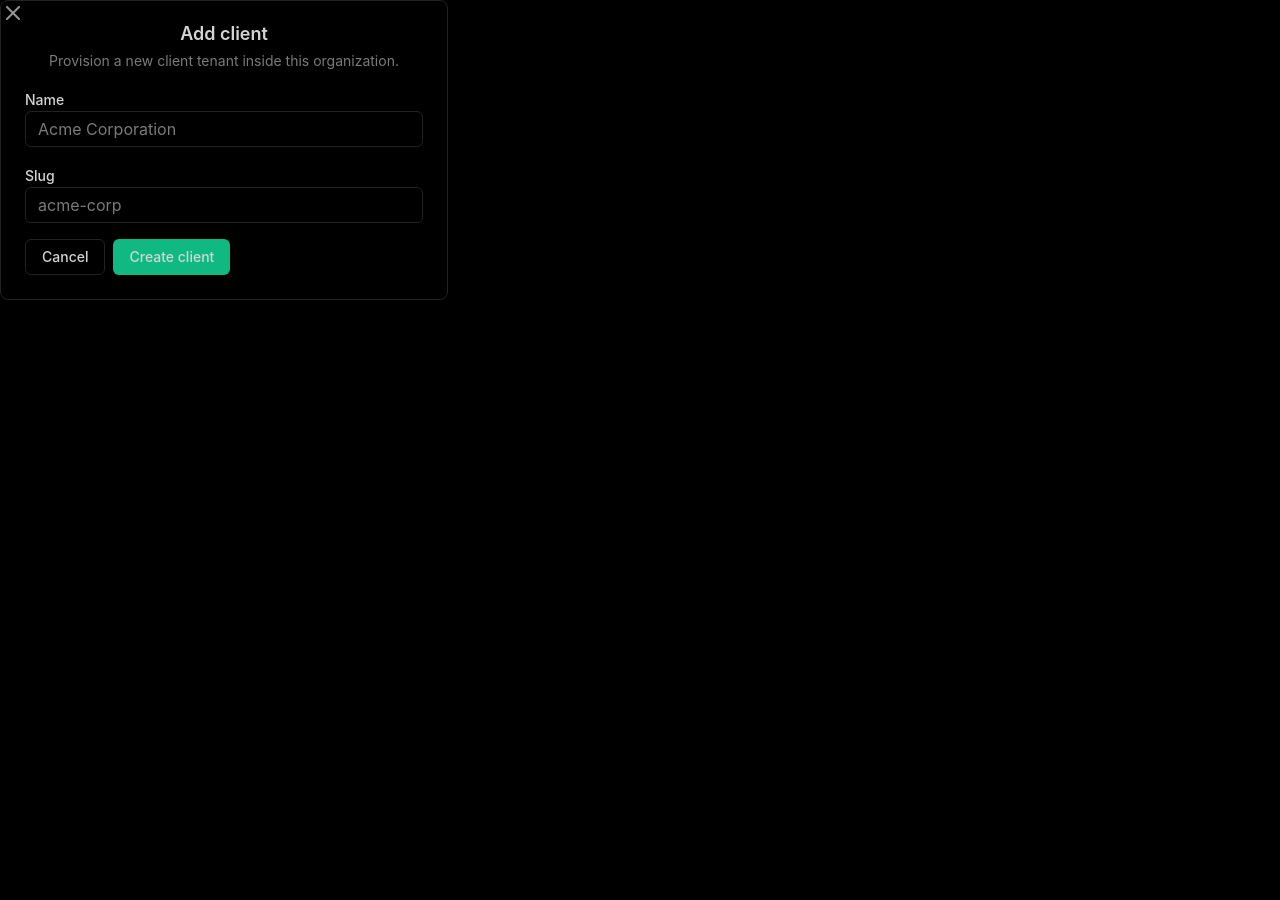
Test: AddClientDialog › shows validation errors when submitting an empty form
The image size is (1280, 900).
Click the button "Create client" at (172, 257), box [114,239,230,275]
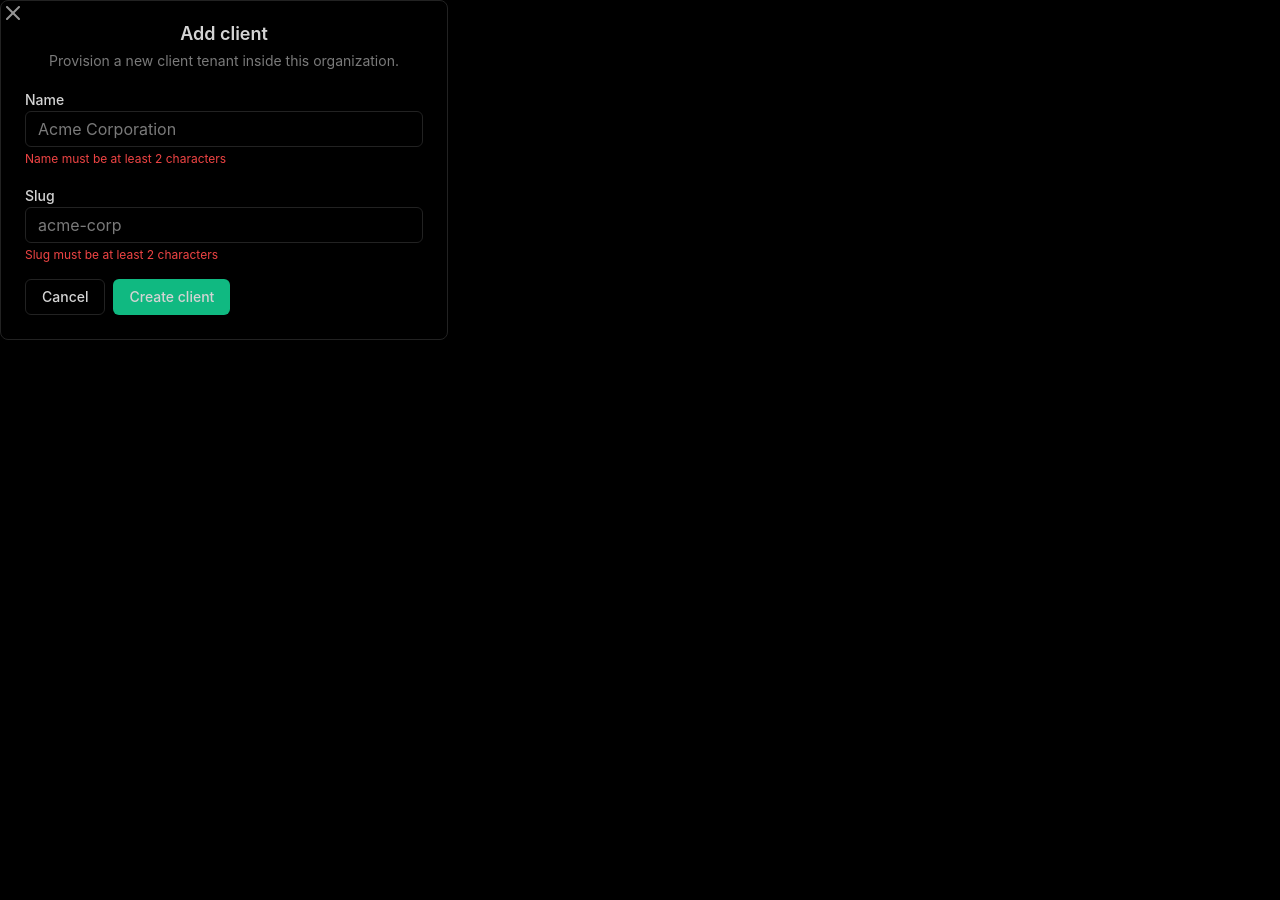
Expected: the text "Name must be at least 2 characters" is shown, [25,151,226,166]
Expected: the text "Slug must be at least 2 characters" is shown, [25,247,218,262]
